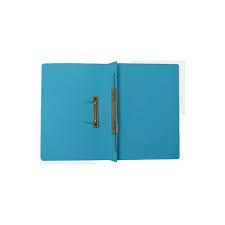Cardboard: (33, 51, 206, 173)
